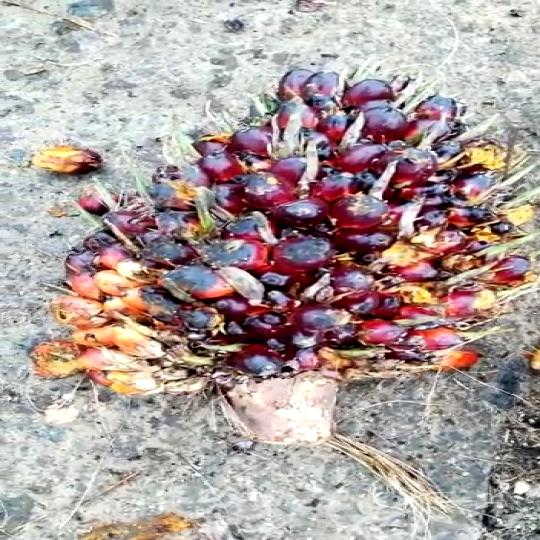masak: (26, 66, 535, 540)
